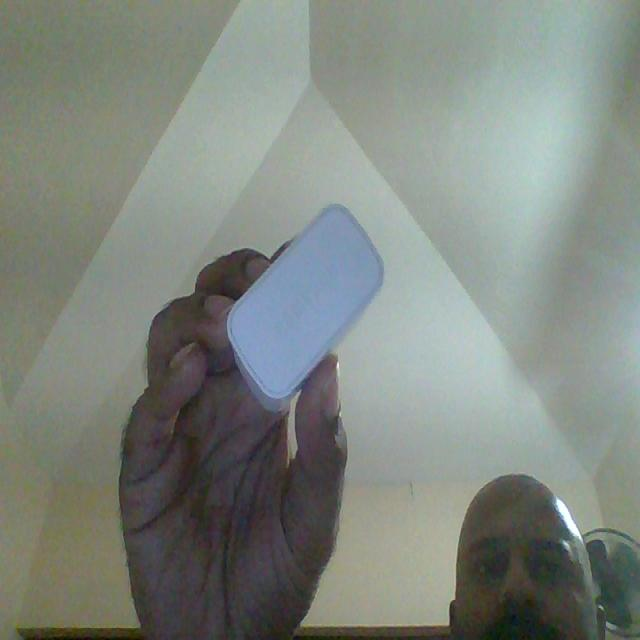charger: (220, 195, 395, 412)
